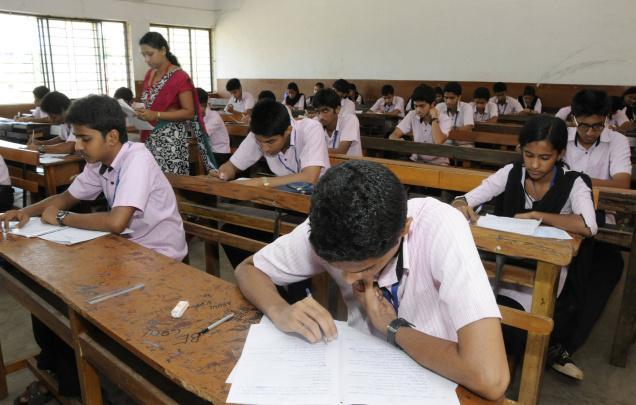chit: (200, 155, 236, 188)
invigilator: (114, 28, 206, 180)
student: (230, 154, 506, 405), (5, 95, 170, 261), (462, 109, 613, 247), (392, 82, 459, 155), (305, 90, 376, 157), (429, 70, 474, 131), (511, 80, 556, 118), (466, 81, 501, 128), (218, 76, 253, 120)
studentcopying: (194, 95, 328, 196)
